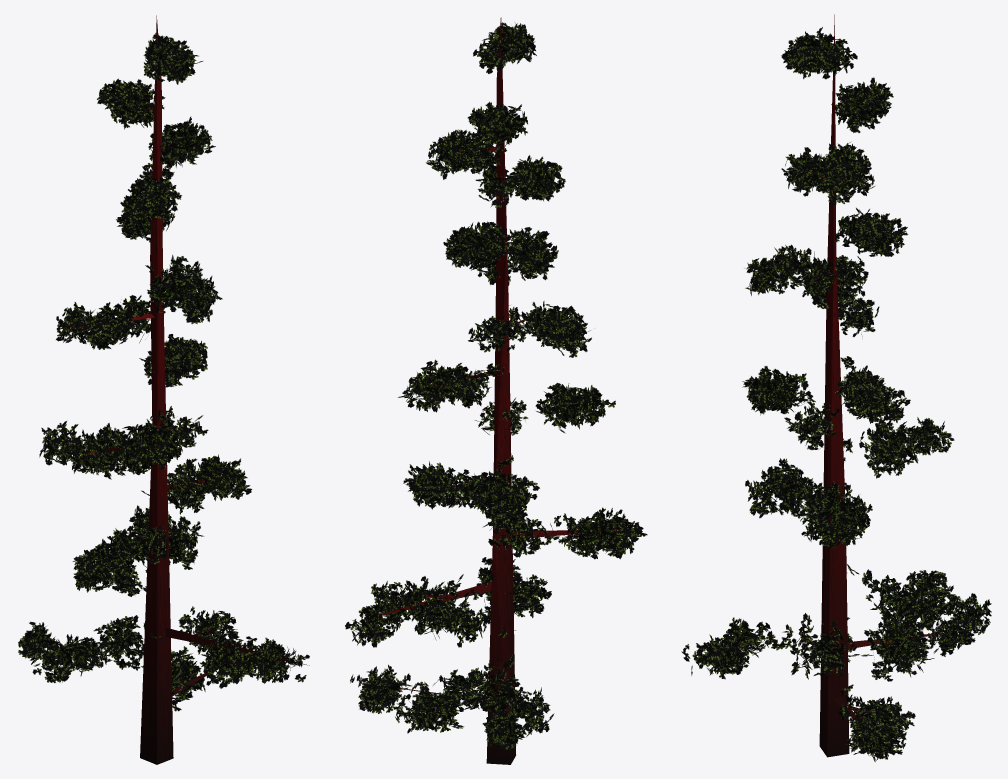
File: spruce_conifer_v03_LOD1.glb
3 views of the same model, side by side, from view 1: azimuth 30°, elevation 25°; view 2: azimuth 150°, elevation 25°; view 3: azimuth 270°, elevation 25° (orthographic).
Visible parts, largest first — view 1: spruce_conifer_v03_LOD1; view 2: spruce_conifer_v03_LOD1; view 3: spruce_conifer_v03_LOD1.
Part boxes in pixels (<box>): spruce_conifer_v03_LOD1: <box>18,15,309,764</box>; spruce_conifer_v03_LOD1: <box>345,17,647,764</box>; spruce_conifer_v03_LOD1: <box>681,14,991,762</box>.
Size of the model in its own units: 10.88 by 31.97 by 12.37.
2 materials, 2 textured.
